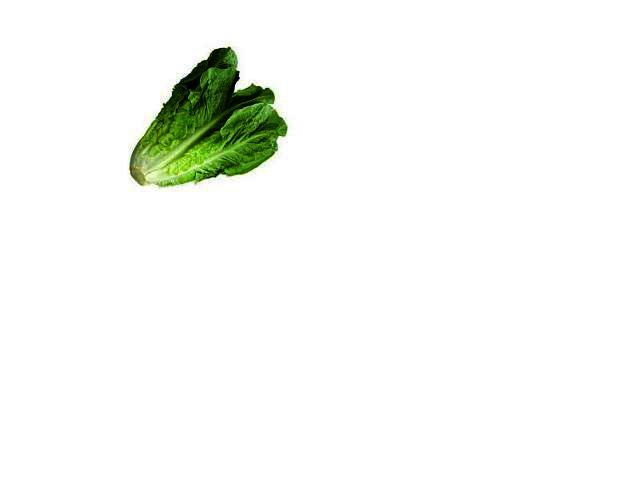lettuce: (134, 38, 280, 183)
